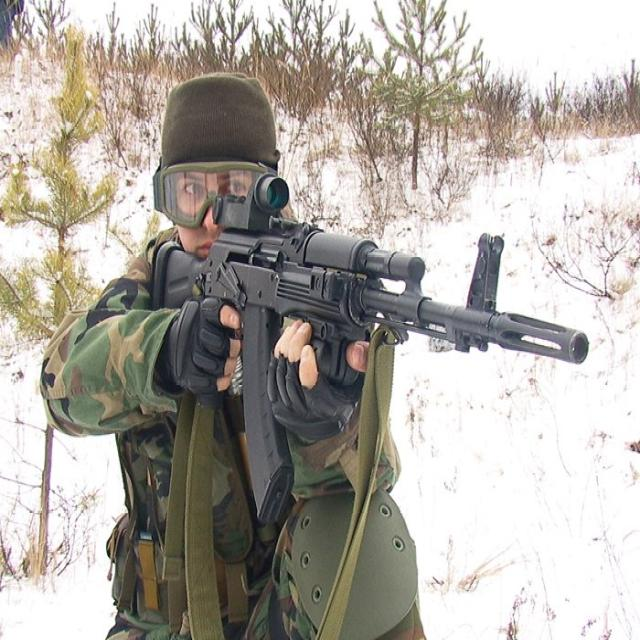firearm: (153, 174, 590, 522)
